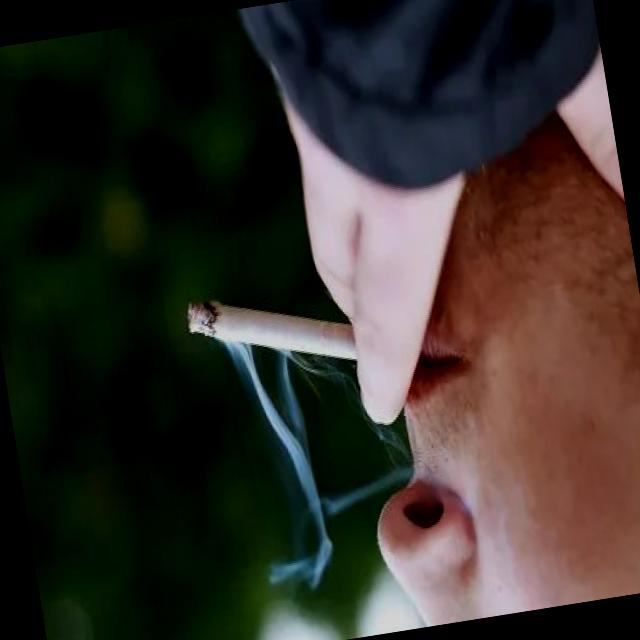cigarette: (180, 270, 370, 394)
